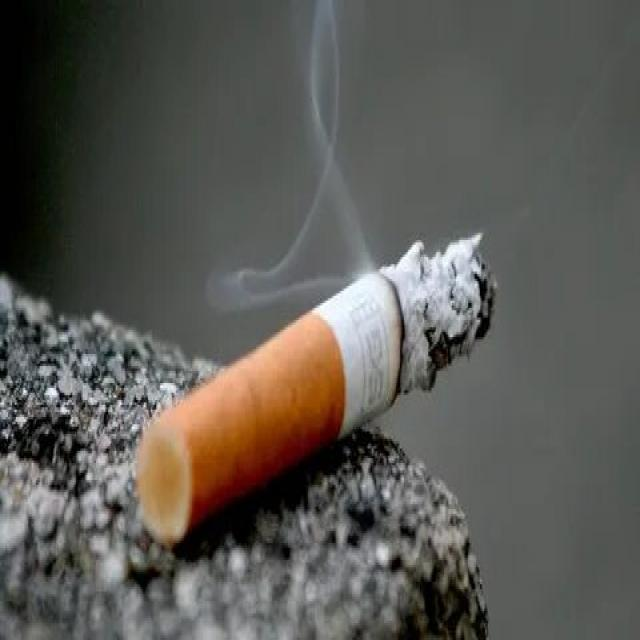smoke: (134, 228, 498, 550)
